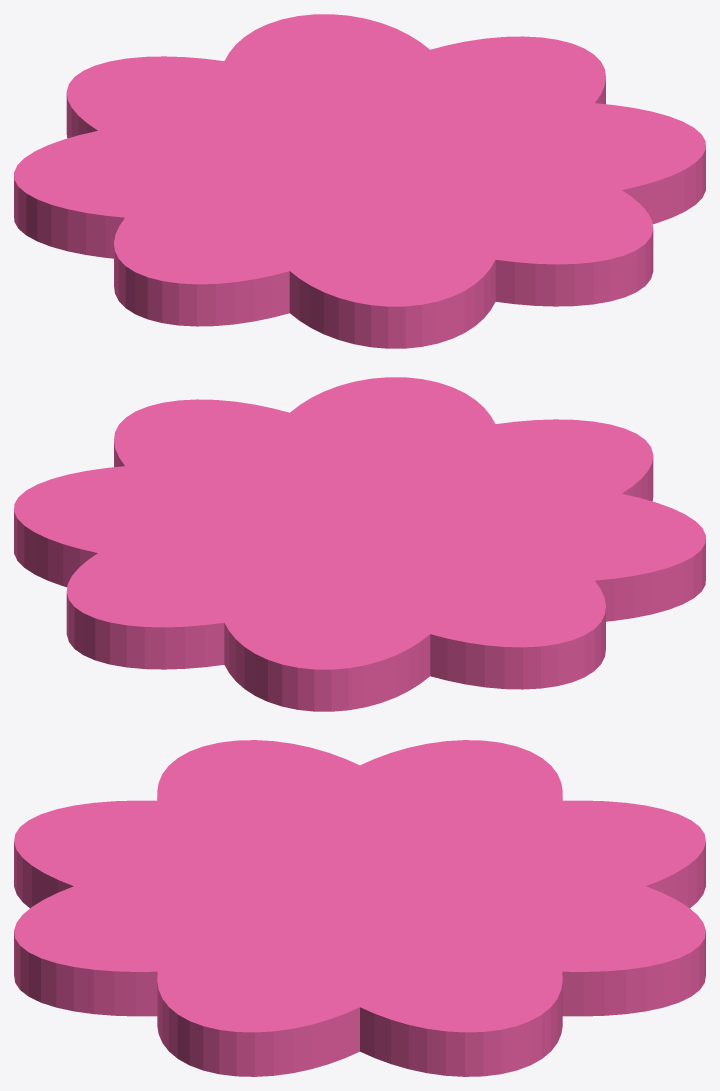
The model's file is petal-base-refined.glb.
3 views of the same model, one above another, from view 1: azimuth 30°, elevation 25°; view 2: azimuth 150°, elevation 25°; view 3: azimuth 270°, elevation 25° (orthographic). The views are drawn at different scales.
Parts seen in each view (by area): view 1: 花びら形台座; view 2: 花びら形台座; view 3: 花びら形台座.
Part boxes in pixels (<box>): 花びら形台座: <box>14,14,705,348</box>; 花びら形台座: <box>14,377,705,711</box>; 花びら形台座: <box>14,740,705,1076</box>.
Bounding box in the file's own units: 0.0847 × 0.006 × 0.0847.
